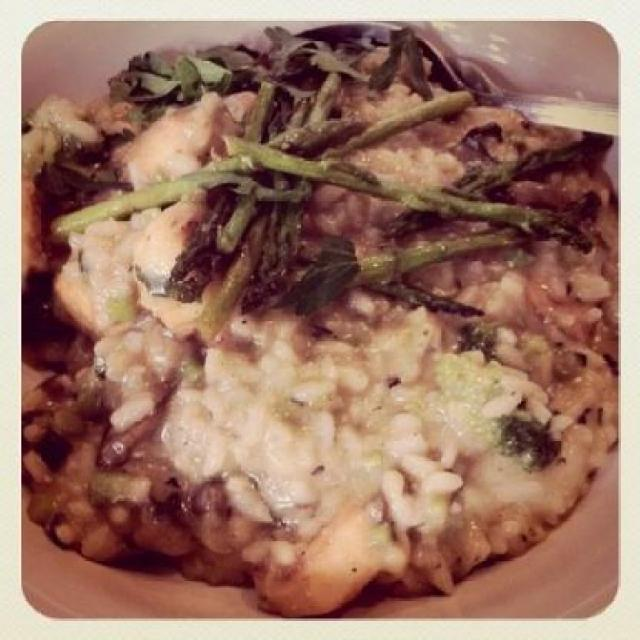Risotto: (36, 36, 601, 593)
